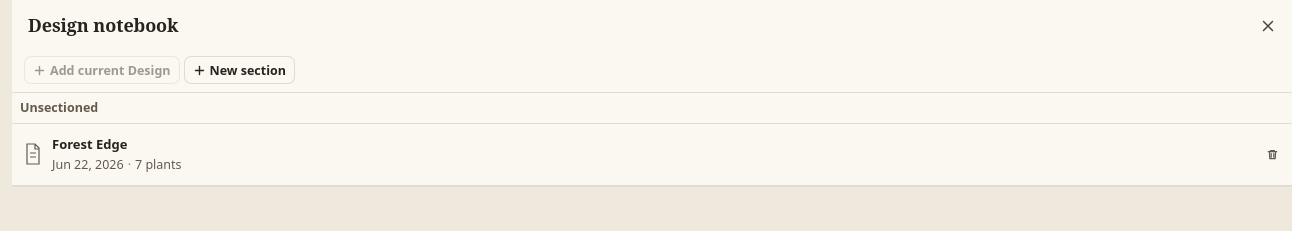
it: DesignNotebookPanel › removes a Design reference from a direct row delete button
Click the button named "Remove Forest Edge from the notebook" at (1272,154), box left=1260, top=142, right=1284, bottom=166
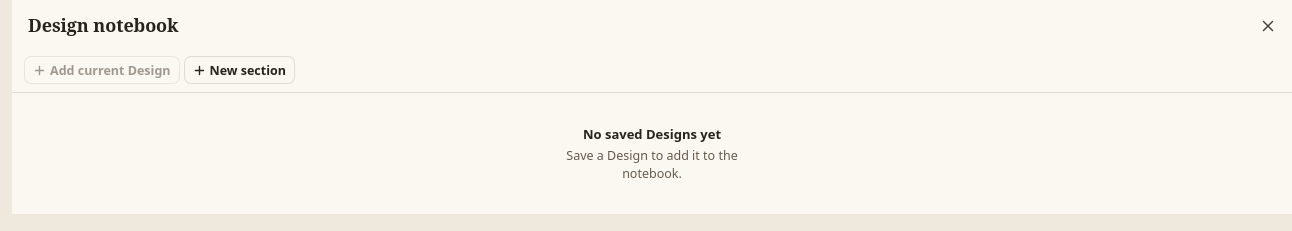
Now the text "Forest Edge" is gone
